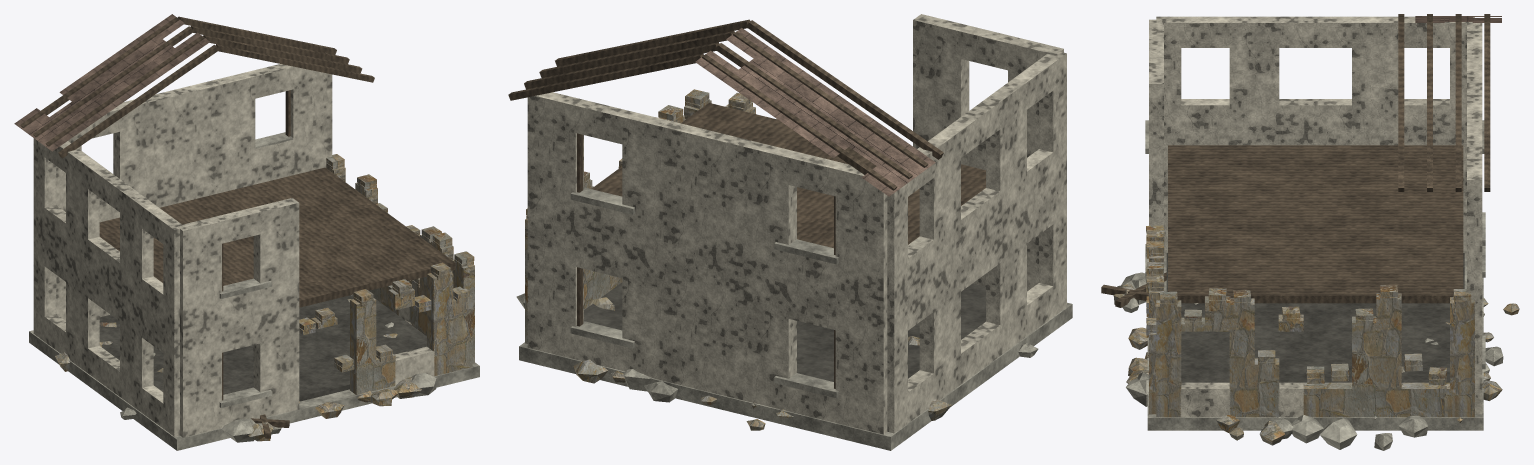
Rendered from House_3.fbx.
The picture shows the model from 3 angles, left to right: view 1: azimuth 30°, elevation 25°; view 2: azimuth 150°, elevation 25°; view 3: azimuth 270°, elevation 25°; orthographic projection. The views are drawn at different scales.
Parts seen in each view (by area): view 1: House_3; view 2: House_3; view 3: House_3.
Part boxes in pixels (box(x1,y1,x2,y2)): House_3: box(14, 14, 479, 450); House_3: box(508, 14, 1072, 450); House_3: box(1101, 14, 1519, 450).
Bounding box in the file's own units: 940 × 713 × 828.
